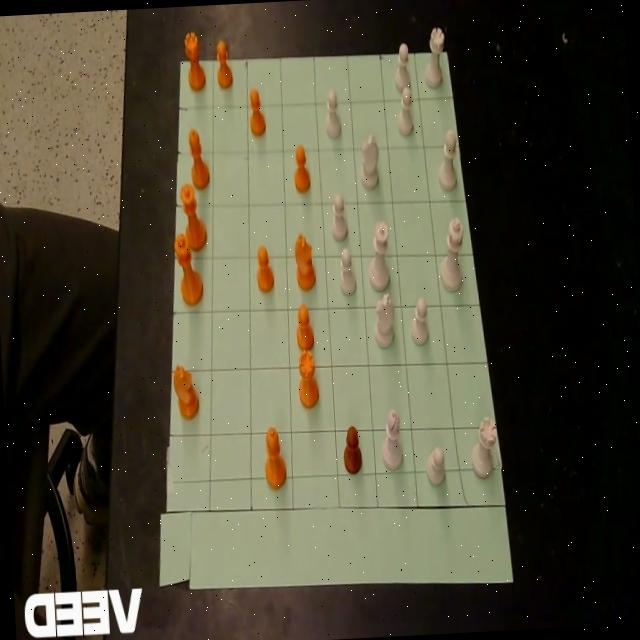orange_bishop: (262, 424, 288, 489), (188, 125, 210, 189)
orange_king: (173, 231, 204, 308)
orange_knight: (172, 361, 200, 420), (294, 229, 316, 289)
orange_pawn: (342, 425, 363, 474), (295, 300, 315, 350), (255, 244, 275, 292), (292, 142, 311, 192), (215, 38, 234, 88), (248, 87, 266, 136)
orange_queen: (180, 182, 208, 252)
orange_rook: (184, 28, 206, 90), (296, 350, 318, 408)
white_bishop: (436, 126, 459, 190), (381, 408, 404, 471)
white_king: (438, 214, 466, 290)
white_knight: (374, 289, 396, 347), (359, 132, 380, 188)
white_pawn: (409, 295, 430, 346), (329, 190, 348, 240), (394, 41, 412, 90), (397, 86, 414, 136), (426, 445, 446, 486), (338, 252, 356, 296), (326, 97, 342, 136)
white_queen: (366, 220, 392, 292)
white_rook: (470, 415, 498, 479), (423, 26, 446, 88)
